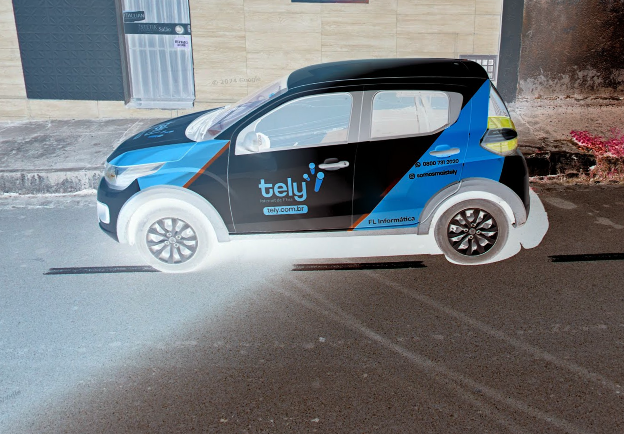car: (93, 54, 531, 278)
